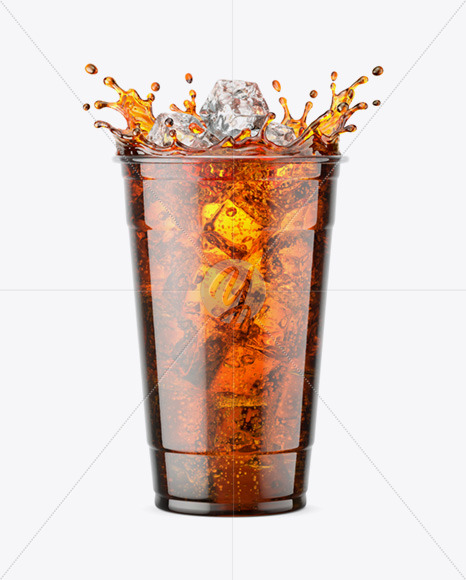plastic_bottle: (103, 145, 358, 523)
